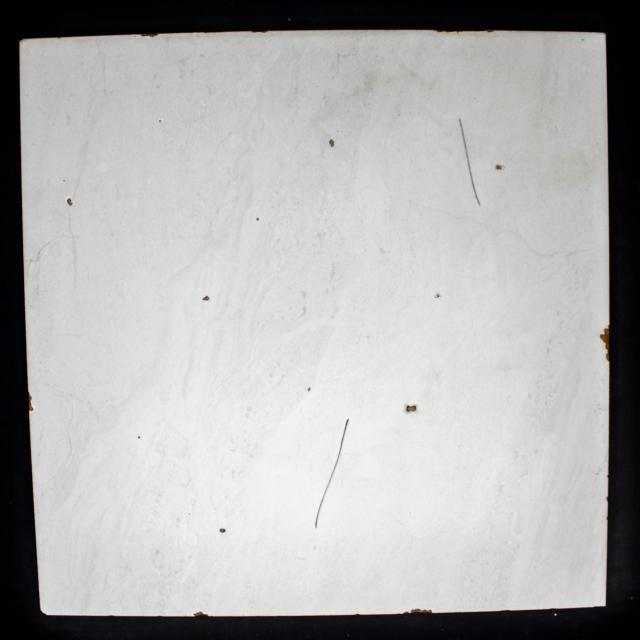edge-chipping: (599, 325, 610, 350), (27, 390, 35, 412), (410, 608, 433, 614), (192, 610, 210, 617), (139, 33, 159, 39), (604, 352, 610, 362), (402, 610, 410, 615)
hole: (405, 404, 417, 414), (328, 138, 336, 148), (201, 294, 211, 302), (66, 196, 74, 206), (494, 164, 504, 171), (434, 292, 441, 300), (218, 528, 227, 534), (307, 386, 311, 393), (256, 216, 260, 222), (158, 118, 162, 123), (136, 435, 140, 440)
line: (457, 116, 481, 207), (315, 474, 333, 530), (334, 418, 349, 472)
